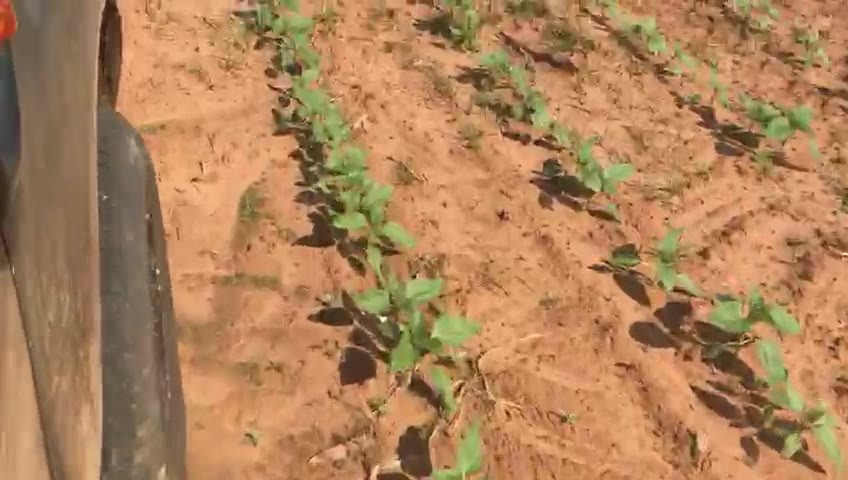sunflower: (352, 241, 488, 374), (749, 345, 839, 469), (689, 285, 816, 364), (724, 85, 830, 171), (598, 223, 715, 300), (547, 136, 639, 207), (415, 420, 509, 479), (326, 183, 409, 244), (497, 91, 576, 147), (465, 45, 539, 100), (253, 11, 332, 51), (437, 8, 498, 57), (281, 81, 349, 117), (299, 112, 360, 152), (703, 65, 742, 127), (273, 36, 327, 80), (319, 145, 374, 186), (661, 34, 697, 81), (622, 14, 662, 50), (645, 29, 678, 64)
